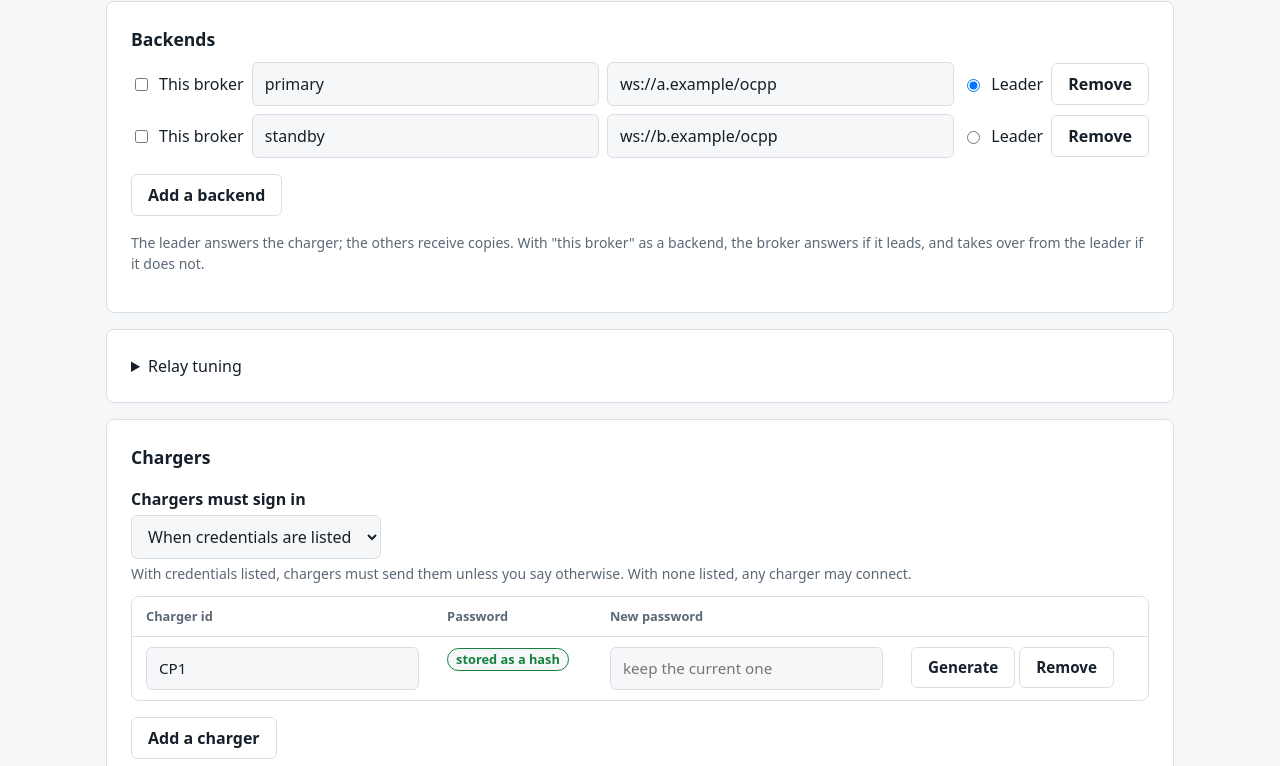
Test: changing an organization › shows the warnings of a check
The width and height of the screenshot is (1280, 766).
(page scrolled)
Type "50" into the field named "Held frames".
click(640, 366); type("50")  # box top-left (106, 329), bottom-right (1174, 403)
(page scrolled)
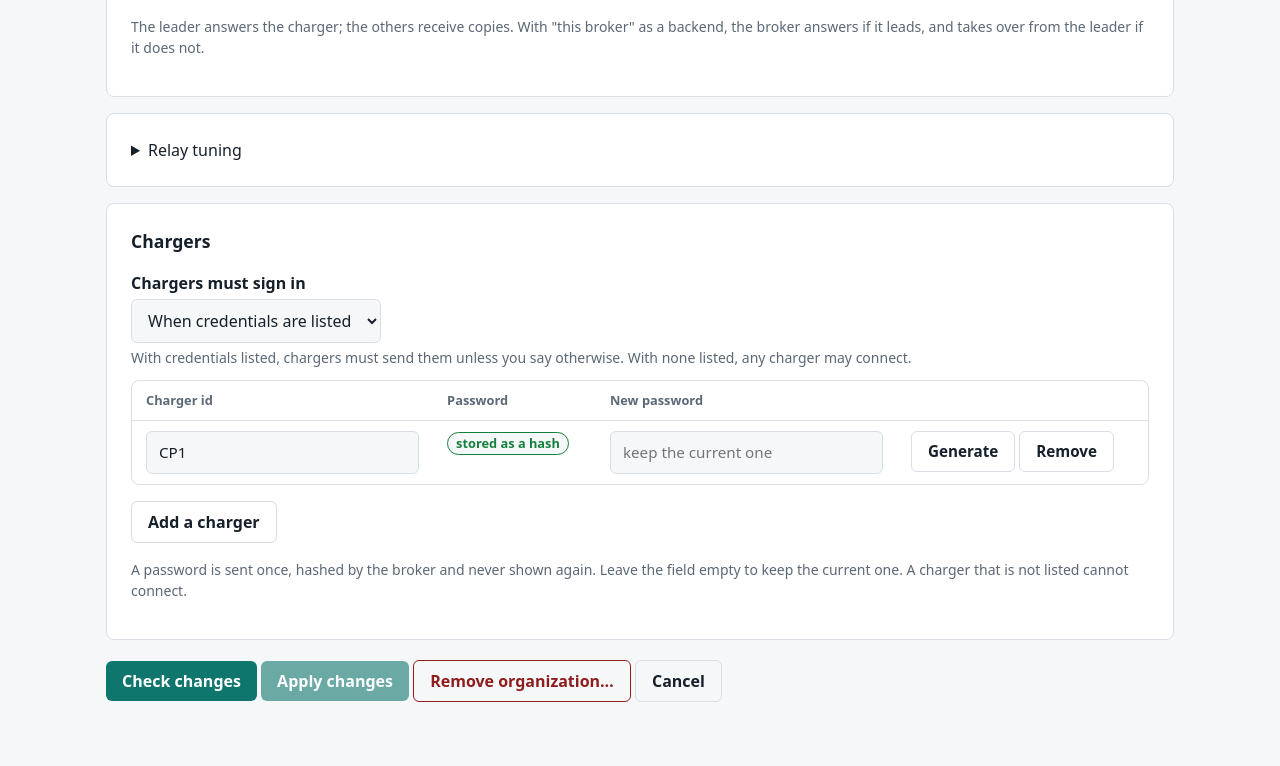
Click the button "Check changes".
click(181, 681)  # box top-left (106, 661), bottom-right (257, 701)
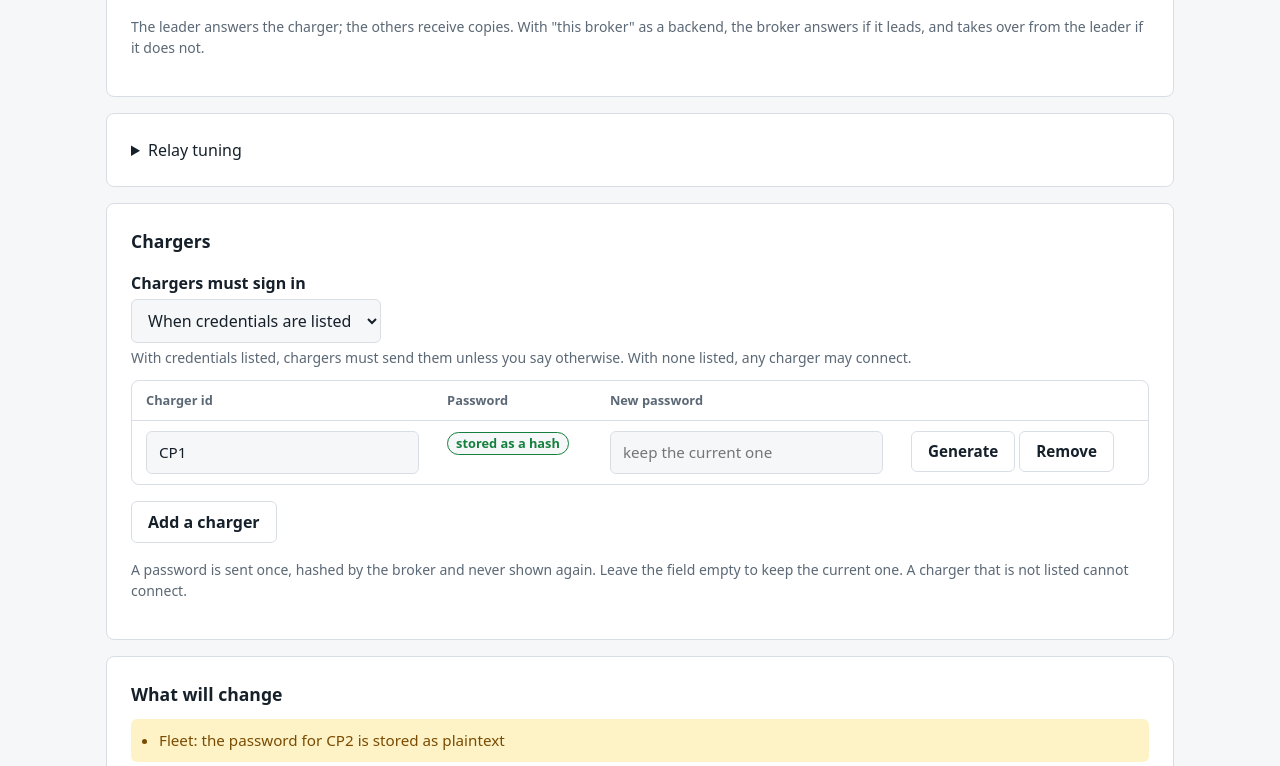
Result: the list item "Fleet: the password for CP2 is stored as plaintext" is shown at top-left (159, 730), bottom-right (505, 750)
